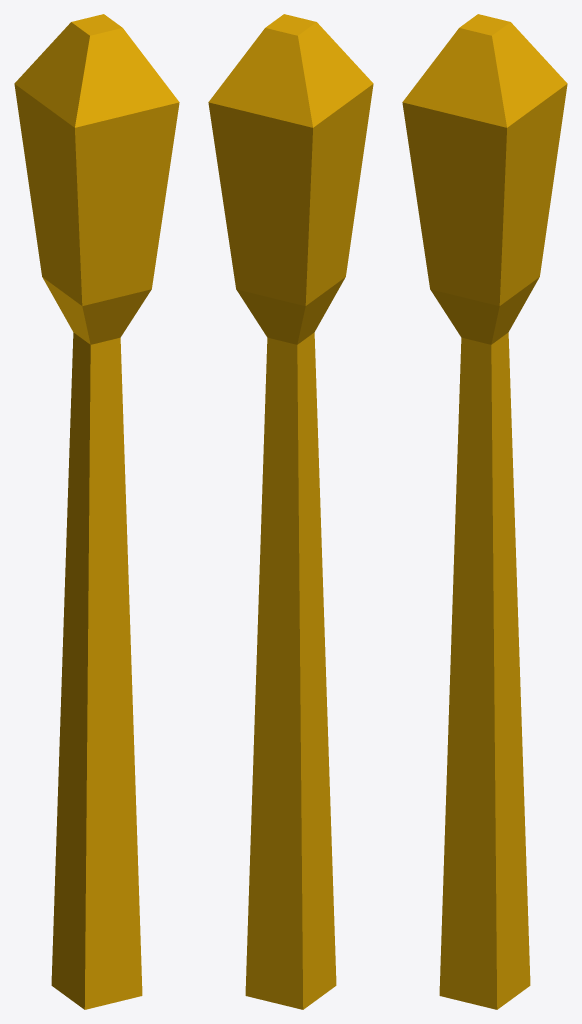
The model's file is crop.fbx.
3 renders of one model, left to right at view 1: azimuth 30°, elevation 25°; view 2: azimuth 150°, elevation 25°; view 3: azimuth 330°, elevation 25°, orthographic.
Parts seen in each view (by area): view 1: Crop; view 2: Crop; view 3: Crop.
Part boxes in pixels (x1,y1,x2,y2): Crop: [14, 14, 179, 1009]; Crop: [208, 14, 373, 1009]; Crop: [402, 14, 567, 1009].
Size of the model in its own units: 14.93 by 132 by 14.93.
